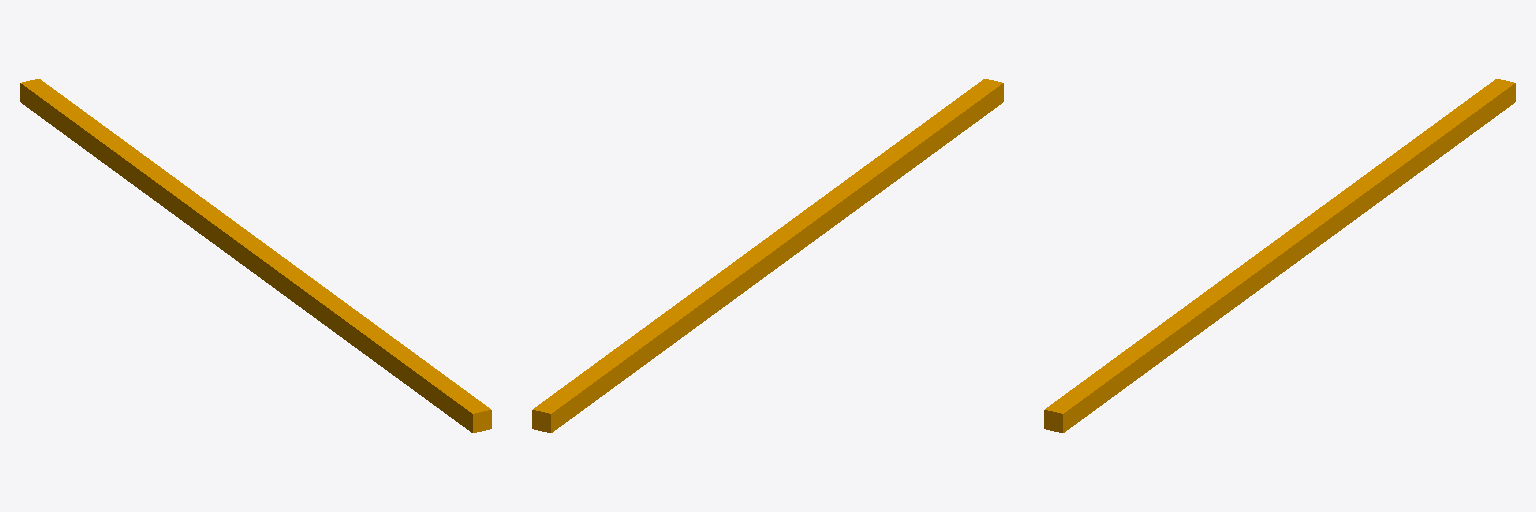
The robot description file, URDF, robot "prius":
<?xml version="1.0"?>
<robot xmlns:xacro="http://ros.org/wiki/xacro" name="prius">
  <!--- Surface properties must come first? -->
  <gazebo reference="front_left_wheel">
    <mu1>0.9</mu1>
    <mu2>0.9</mu2>
    <minDepth>0.005</minDepth>
    <kp>1e8</kp>
  </gazebo>
  <gazebo reference="front_right_wheel">
    <mu1>0.9</mu1>
    <mu2>0.9</mu2>
    <minDepth>0.005</minDepth>
    <kp>1e8</kp>
  </gazebo>
  <gazebo reference="rear_left_wheel">
    <mu1>0.9</mu1>
    <mu2>0.9</mu2>
    <minDepth>0.005</minDepth>
    <kp>1e8</kp>
  </gazebo>
  <gazebo reference="rear_right_wheel">
    <mu1>0.9</mu1>
    <mu2>0.9</mu2>
    <minDepth>0.005</minDepth>
    <kp>1e8</kp>
  </gazebo>


  <link name="base_link">
    <inertial>
      <mass value="1356.0"/>
      <origin xyz="0 0 0.48" rpy="0 0 1.5708"/>
      <inertia ixx="2581.13354740" ixy="0.0" ixz="0.0" iyy="591.30846112" iyz="0.0" izz="2681.95008628"/>
    </inertial>
    <visual>
      <origin xyz="0 0.05 0.4" rpy="0 0 0"/>
      <geometry>
        <box size="0.05 2.1 0.05"/>
      </geometry>
      <!-- <geometry>
        <mesh filename="package://vehicle_sim/meshes/hybrid_body.obj" scale="0.01 0.01 0.01"/>
      </geometry> -->
    </visual>

    <collision name="base_link">
      <origin xyz="0.0 0.05 0.4" rpy="0 0 0"/>
      <geometry>
        <!-- <box size="1.7526 2.1 0.95"/> -->
        <box size="0.05 2.1 0.05"/>
      </geometry>
    </collision>    
  </link>

  <!-- <link name="tank">
    <inertial>
      <mass value="138.0"/>
      <origin xyz="0 0 0" rpy="0 0 0"/>
      <inertia ixx="25.13354740" ixy="0.0" ixz="0.0" iyy="5.30846112" iyz="0.0" izz="26.95008628"/>
    </inertial>
    <visual>
      <origin xyz="0 0 0" rpy="0 0 0"/>
      <geometry>
        <box size="1 2.1 0.05"/>
      </geometry>
    </visual>
  </link>

  <joint name="tank_joint" type="fixed">
    <origin xyz="0 0 0.15" rpy="0 0 0"/>
    <parent link="base_link"/>
    <child link="tank"/>
  </joint> -->
    <!-- <link name="caster_left_link">
    <visual>
      <origin xyz="0 0 0" rpy="0 0 0" />
      <geometry>
	      <sphere radius="0.1" />
      </geometry>
    </visual>   
    <collision>
      <geometry>
	      <sphere radius="0.1" />
      </geometry>
      <origin xyz="0 0 0" rpy="0 0 0" />
    </collision>        
      <inertial>
        <mass value="100" />
        <origin xyz="0 0 0" />
        <inertia ixx="0.001" ixy="0.0" ixz="0.0"
                 iyy="0.001" iyz="0.0" 
                 izz="0.001" />
      </inertial>
    </link>
 <joint name="caster_left_joint" type="fixed">
      <parent link="base_link"/>
      <child link="caster_left_link"/>
      <origin xyz="1 0.0 0.105" rpy="0 0 0"/>
    </joint>

  <link name="caster_right_link">
    <visual>
      <origin xyz="0 0 0" rpy="0 0 0" />
      <geometry>
	      <sphere radius="0.1" />
      </geometry>
    </visual>   
    <collision>
      <geometry>
	      <sphere radius="0.1" />
      </geometry>
      <origin xyz="0 0 0" rpy="0 0 0" />
    </collision>        
      <inertial>
        <mass value="100" />
        <origin xyz="0 0 0" />
        <inertia ixx="0.001" ixy="0.0" ixz="0.0"
                 iyy="0.001" iyz="0.0" 
                 izz="0.001" />
      </inertial>
    </link>
 <joint name="caster_right_joint" type="fixed">
      <parent link="base_link"/>
      <child link="caster_right_link"/>
      <origin xyz="-1 0.0 0.105" rpy="0 0 0"/>
    </joint> -->


  <link name="fl_axle">
    <inertial>
      <mass value="1"/>
      <origin xyz="0 0 0"/>
      <inertia ixx="0.004" ixy="0.0" ixz="0.0" iyy="0.004" iyz="0.0" izz="0.004"/>
    </inertial>
  </link>
  <link name="front_left_wheel">
    <inertial>
      <mass value="11"/>
      <origin xyz="0 0 0"/>
      <inertia ixx="0.58631238" ixy="0.0" ixz="0.0" iyy="0.33552910" iyz="0.0" izz="0.33552910"/>
    </inertial>
    <collision name="front_left_wheel_collision">
      <geometry>
        <sphere radius="0.31265"/>
      </geometry>
    </collision>
    <visual>
      <origin xyz="0 0 0" rpy="0 0 0"/>
      <geometry>
        <mesh filename="package://vehicle_sim/meshes/wheel.obj" scale="0.01 0.01 0.01"/>
      </geometry>
    </visual>
  </link>
 
  <link name="rear_left_wheel">
    <inertial>
      <mass value="11"/>
      <origin xyz="0 0 0"/>
      <inertia ixx="0.58631238" ixy="0.0" ixz="0.0" iyy="0.33552910" iyz="0.0" izz="0.33552910"/>
    </inertial>
    <collision name="rear_left_wheel_collision">
      <geometry>
        <sphere radius="0.31265"/>
      </geometry>
    </collision>
    <visual>
      <origin xyz="0 0 0" rpy="0 0 0"/>
      <geometry>
        <mesh filename="package://vehicle_sim/meshes/wheel.obj" scale="0.01 0.01 0.01"/>
      </geometry>
    </visual>
  </link>


  <joint name="front_left_steer_joint" type="continuous">
    <parent link="base_link"/>
    <child link="fl_axle"/>
    <origin xyz="0 -1.41 0.3" rpy="0 0 0"/>
    <axis xyz="0 0 1"/>
    <limit lower="-0.8727" upper="0.8727" effort="10000000" velocity="1000000"/>
  </joint>

  <joint name="front_left_wheel_joint" type="continuous">
    <parent link="fl_axle"/>
    <child link="front_left_wheel"/>
    <origin xyz="0 0 0" rpy="0 0 0"/>
    <axis xyz="1 0 0"/>
  </joint>

  <joint name="rear_left_wheel_joint" type="continuous">
    <parent link="base_link"/>
    <child link="rear_left_wheel"/>
    <origin xyz="0 1.45 0.3" rpy="0 0 0"/>
    <axis xyz="1 0 0"/>
  </joint>

  <link name="steering_wheel">
    <inertial>
      <mass value="1.0"/>
      <inertia ixx="0.14583300" ixy="0.0" ixz="0.0" iyy="0.14583300" iyz="0.0" izz="0.125"/>
    </inertial>
    <visual>
      <origin xyz="0 0 0" rpy="1.302101 0 0"/>
      <geometry>
        <mesh filename="package://vehicle_sim/meshes/steering_wheel.obj" scale="0.01 0.01 0.01"/>
      </geometry>
    </visual>
  </link>

  <joint name="steering_joint" type="continuous">
    <origin xyz="0 0 0.988243" rpy="-1.302101 0 0"/>
    <parent link="base_link"/>
    <child link="steering_wheel"/>
    <axis xyz="0 0 1"/>
    <limit lower="-7.85" upper="7.85" effort="10000000" velocity="1000000"/>
  </joint>



  <gazebo>
    <plugin name="pruis_hybrid_drive" filename="libControlHybridPlugin_2w.so">
      <chassis>base_link</chassis>
      <front_left_wheel>front_left_wheel_joint</front_left_wheel>
      <!-- <front_right_wheel>front_right_wheel_joint</front_right_wheel> -->
      <front_left_wheel_steering>front_left_steer_joint</front_left_wheel_steering>
      <!-- <front_right_wheel_steering>front_right_steer_joint</front_right_wheel_steering> -->
      <back_left_wheel>rear_left_wheel_joint</back_left_wheel>
      <!-- <back_right_wheel>rear_right_wheel_joint</back_right_wheel> -->
      <steering_wheel>steering_joint</steering_wheel>
      <chassis_aero_force_gain>0.63045</chassis_aero_force_gain>
      <front_torque>859.4004393000001</front_torque>
      <back_torque>0</back_torque>
      <front_brake_torque>1031.28052716</front_brake_torque>
      <back_brake_torque>687.5203514400001</back_brake_torque>
      <max_speed>37.998337013956565</max_speed>
      <min_gas_flow>8.981854013171626e-05</min_gas_flow>
      <gas_efficiency>0.371</gas_efficiency>
      <battery_charge_watt_hours>291</battery_charge_watt_hours>
      <battery_discharge_watt_hours>214</battery_discharge_watt_hours>
      <max_steer>0.6458</max_steer>
      <flwheel_steering_p_gain>1e4</flwheel_steering_p_gain>
      <!-- <frwheel_steering_p_gain>1e4</frwheel_steering_p_gain> -->
      <flwheel_steering_i_gain>0</flwheel_steering_i_gain>
      <!-- <frwheel_steering_i_gain>0</frwheel_steering_i_gain> -->
      <flwheel_steering_d_gain>3e2</flwheel_steering_d_gain>
      <!-- <frwheel_steering_d_gain>3e2</frwheel_steering_d_gain> -->
    </plugin>
  </gazebo>

  <gazebo>
    <plugin name="joint_state_publisher" filename="libgazebo_ros_joint_state_publisher.so">
      <!-- <robotNamespace>/prius</robotNamespace> -->
      <jointName>rear_left_wheel_joint, front_left_wheel_joint, front_left_steer_joint, steering_joint</jointName>
      <updateRate>100.0</updateRate>
      <alwaysOn>true</alwaysOn>
    </plugin>
  </gazebo>

  <gazebo>
    <plugin name="p3d" filename="libgazebo_ros_p3d.so">
      <!-- <robotNamespace>/prius</robotNamespace> -->
      <bodyName>base_link</bodyName>
      <topicName>base_pose_ground_truth</topicName>
      <frameName>map</frameName>
      <updateRate>100.0</updateRate>
    </plugin>
  </gazebo>

</robot>

--- What the picture shows (computed from the rendered views, not written in the file) ---
The picture shows the robot from 3 angles, left to right: view 1: azimuth 30°, elevation 25°; view 2: azimuth 150°, elevation 25°; view 3: azimuth 330°, elevation 25°; orthographic projection.
Robot: prius — 5 links, 4 joints (4 continuous); root link base_link; default pose: all joints at 0.
Links seen in each view (by area): view 1: base_link; view 2: base_link; view 3: base_link.
Link boxes in pixels (box(x1,y1,x2,y2)): base_link: box(20, 79, 491, 432); base_link: box(532, 79, 1003, 432); base_link: box(1044, 79, 1515, 432).
Bounding box of the posed robot: 0.05 × 2.1 × 0.05 m (x, y, z).
Meshes: 2 distinct files referenced, 0 mesh visuals loaded (none loaded); not drawn: 3 (reference not matched to a file when rendering).